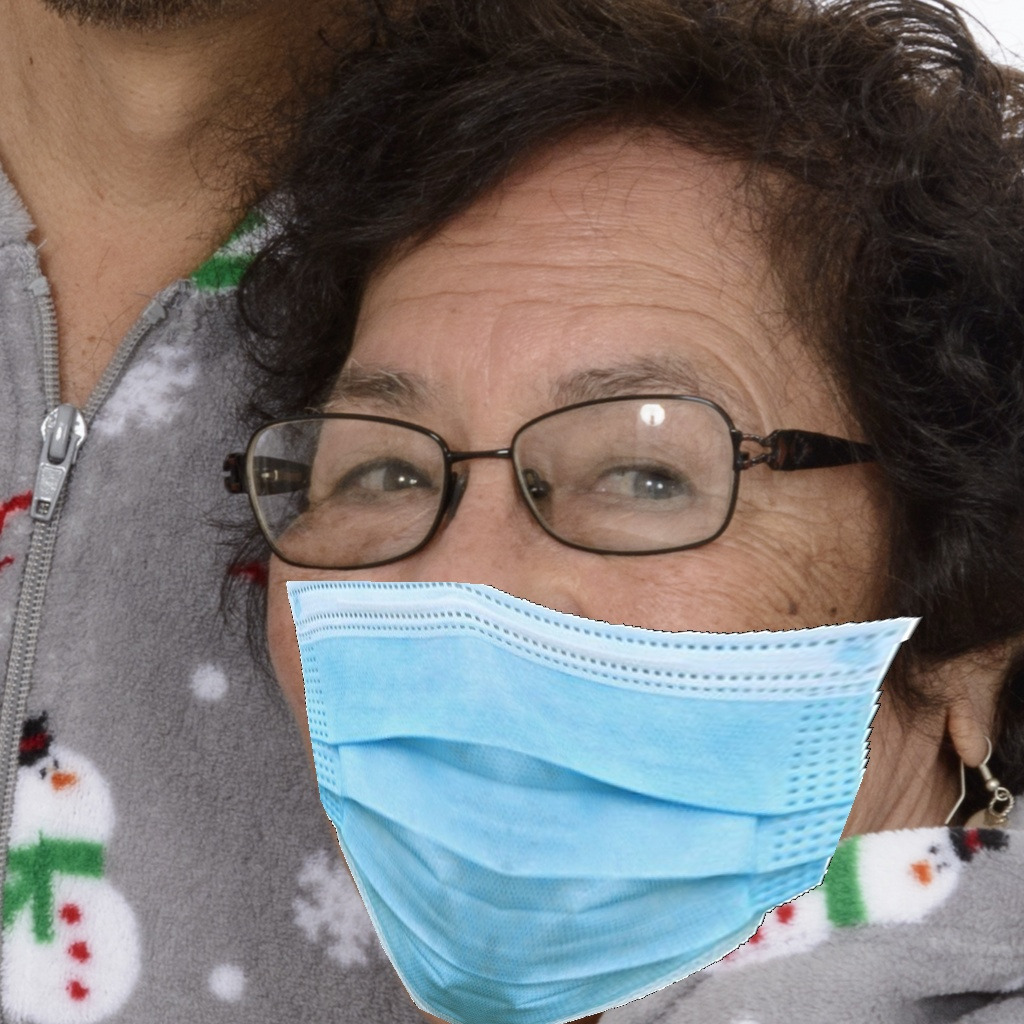with_mask: (258, 357, 886, 1023)
